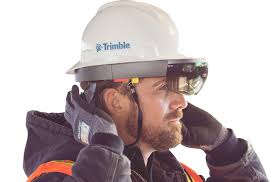hololens: (73, 58, 210, 102)
